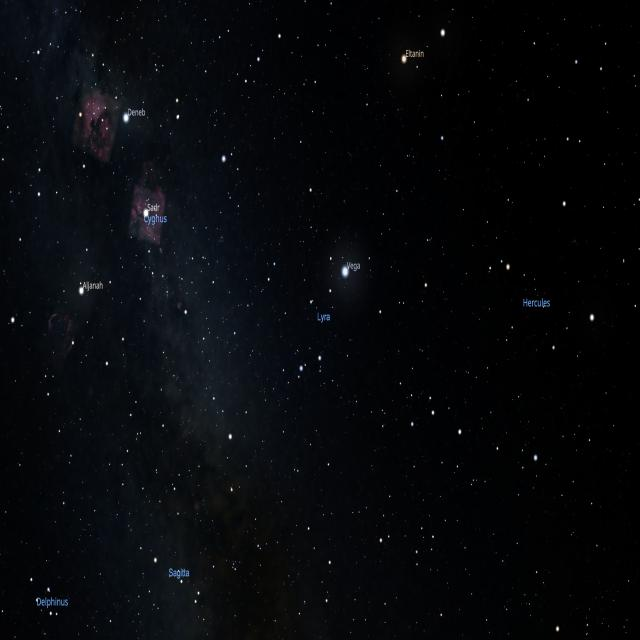Lyra: (294, 258, 352, 376)
